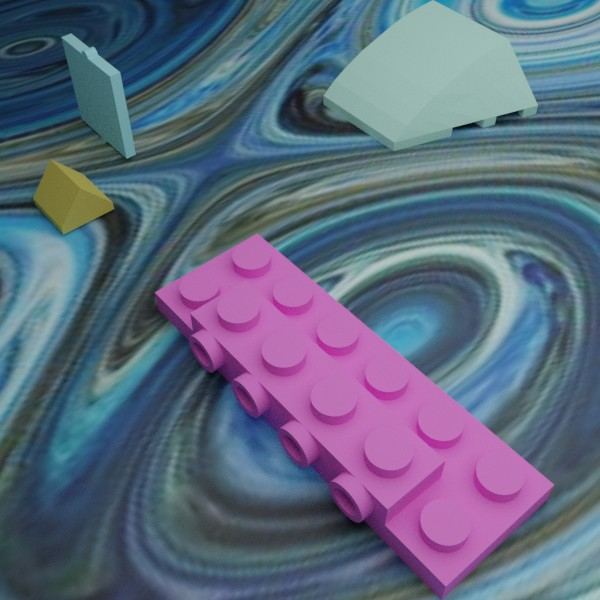lego: (154, 233, 554, 600), (323, 0, 538, 151), (61, 33, 135, 158), (32, 159, 114, 234)
